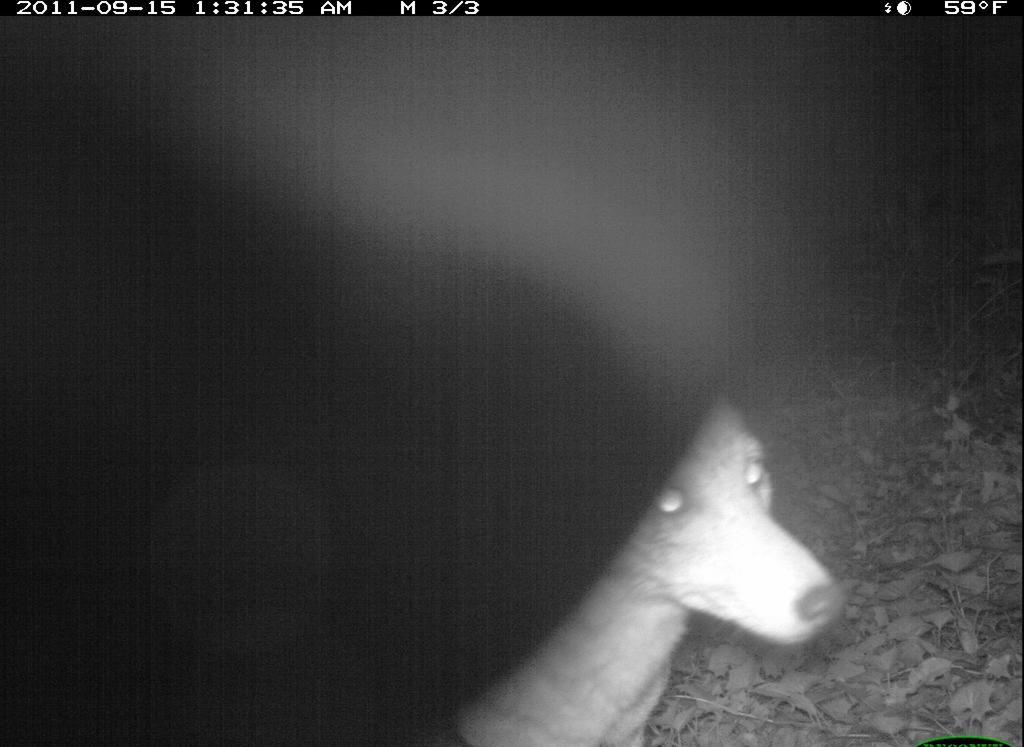coyote: (441, 378, 849, 747)
